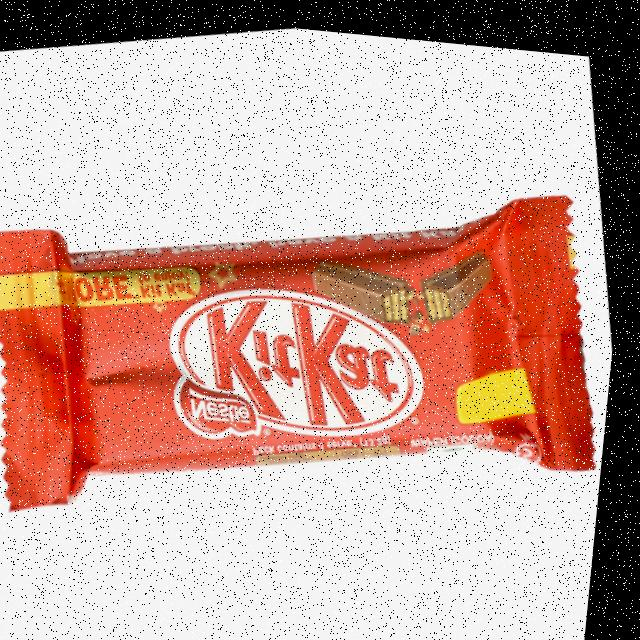kitkat: (0, 132, 622, 559)
